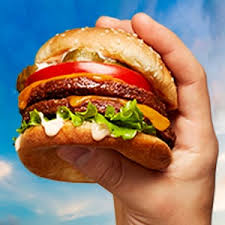hamburger: (12, 23, 187, 189)
